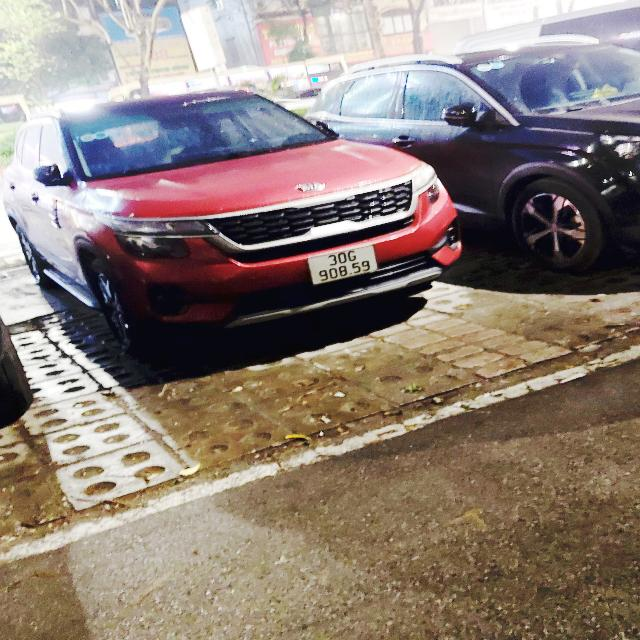license_plate: (307, 244, 381, 287)
